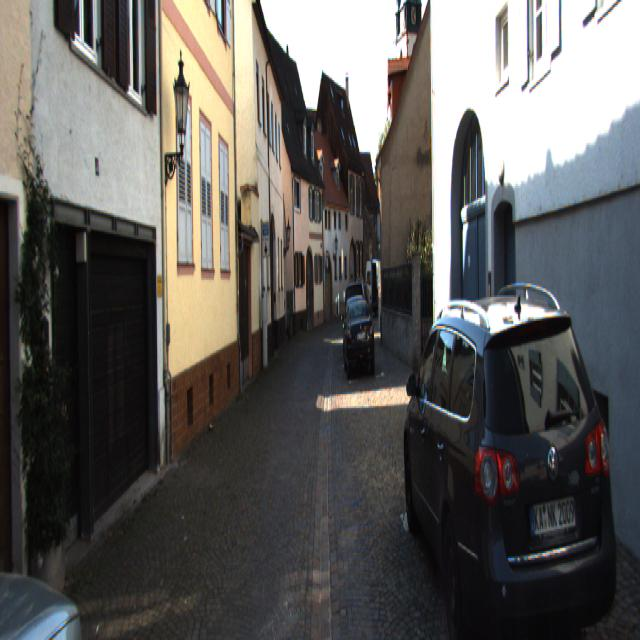Car: (400, 272, 630, 638), (0, 374, 97, 638), (343, 299, 374, 379), (366, 260, 387, 319)
